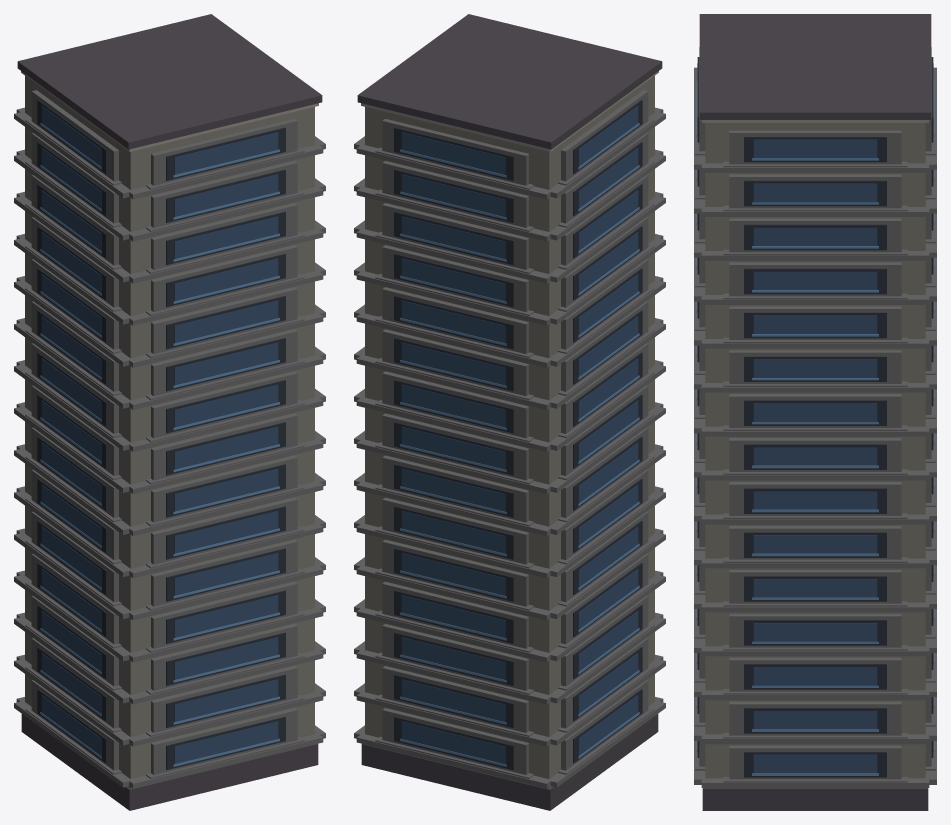
File: TowerMedium.obj
3 views of the same model, side by side, from view 1: azimuth 30°, elevation 25°; view 2: azimuth 150°, elevation 25°; view 3: azimuth 270°, elevation 25° (orthographic). The views are drawn at different scales.
Visible parts, largest first — view 1: TowerMedium; view 2: TowerMedium; view 3: TowerMedium.
Boxes of the visible parts, x1,y1,x2,y2 form: TowerMedium: (14,14,325,810); TowerMedium: (354,14,665,810); TowerMedium: (694,14,936,810).
Bounding box in the file's own units: 1.42 × 4.48 × 1.41.
